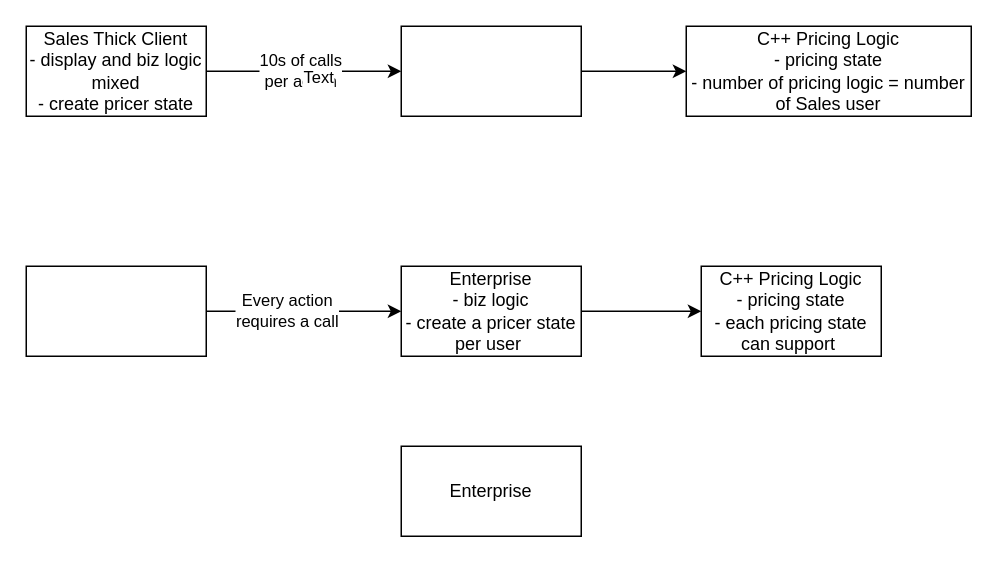
This 998x563 diagram has some shape labels left out. The shapes that lost their labels are listed below. From the top down, each one's centre as x and y in pixels, then its label:
At point (490, 70): "Kafka Message Bus".
At point (115, 310): "FENICS Direct - display logic using GWT".
